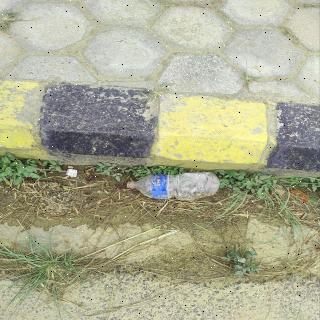Plastic-bottle: (126, 170, 225, 204)
